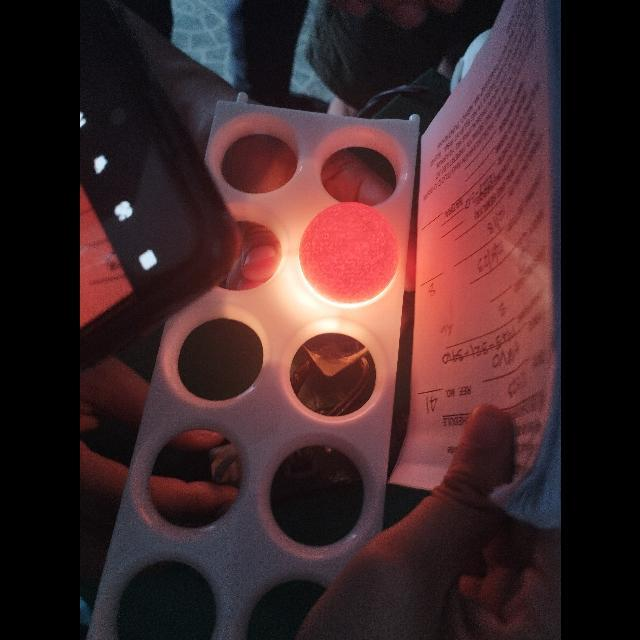Infertile: (299, 202, 397, 302)
